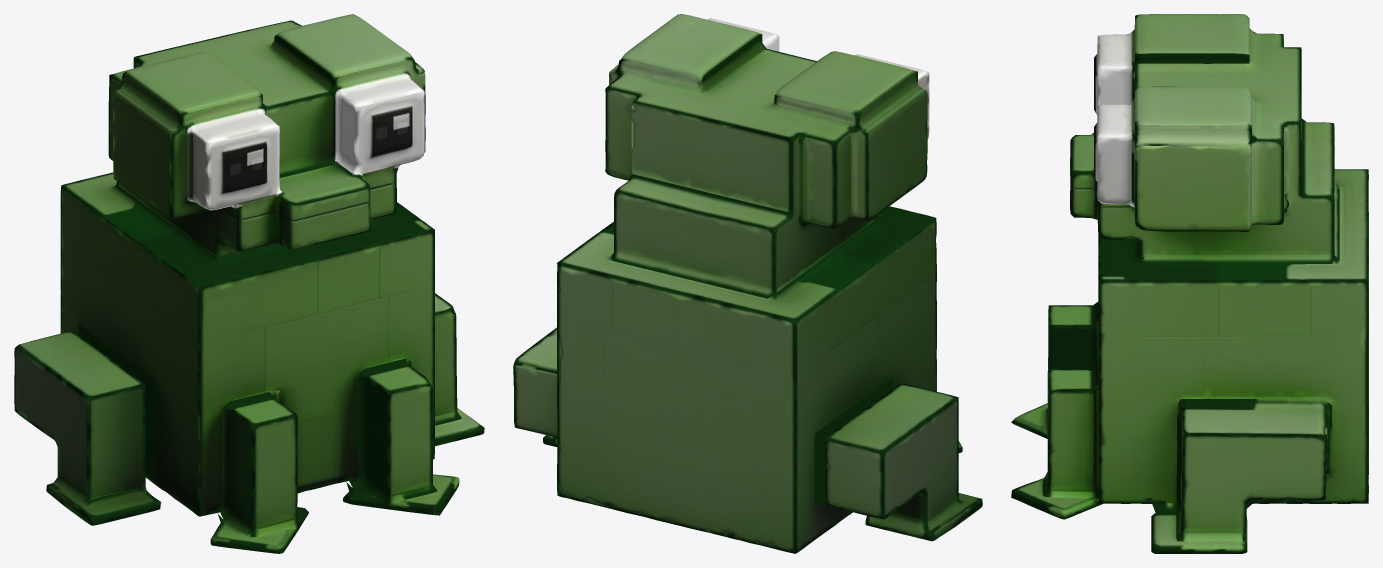
Rendered from frog.fbx.
The picture shows the model from 3 angles, left to right: view 1: azimuth 30°, elevation 25°; view 2: azimuth 150°, elevation 25°; view 3: azimuth 270°, elevation 25°; orthographic projection. The views are drawn at different scales.
Visible parts, largest first — view 1: Frog; view 2: Frog; view 3: Frog.
Part boxes in pixels (x1=…): Frog: x1=14, y1=14, x2=484, y2=553; Frog: x1=513, y1=14, x2=982, y2=553; Frog: x1=1011, y1=14, x2=1368, y2=553.
Bounding box in the file's own units: 15.16 × 15 × 12.38.
1 material, 1 textured.
